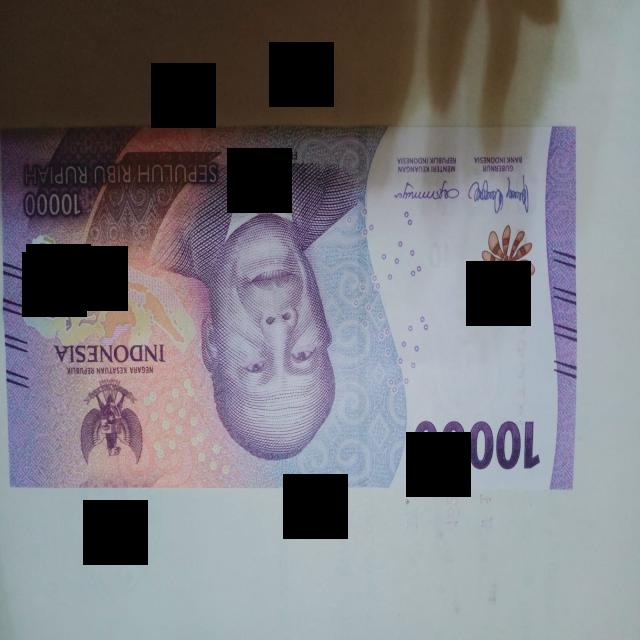sepuluhribu rupiah: (1, 127, 576, 488)
